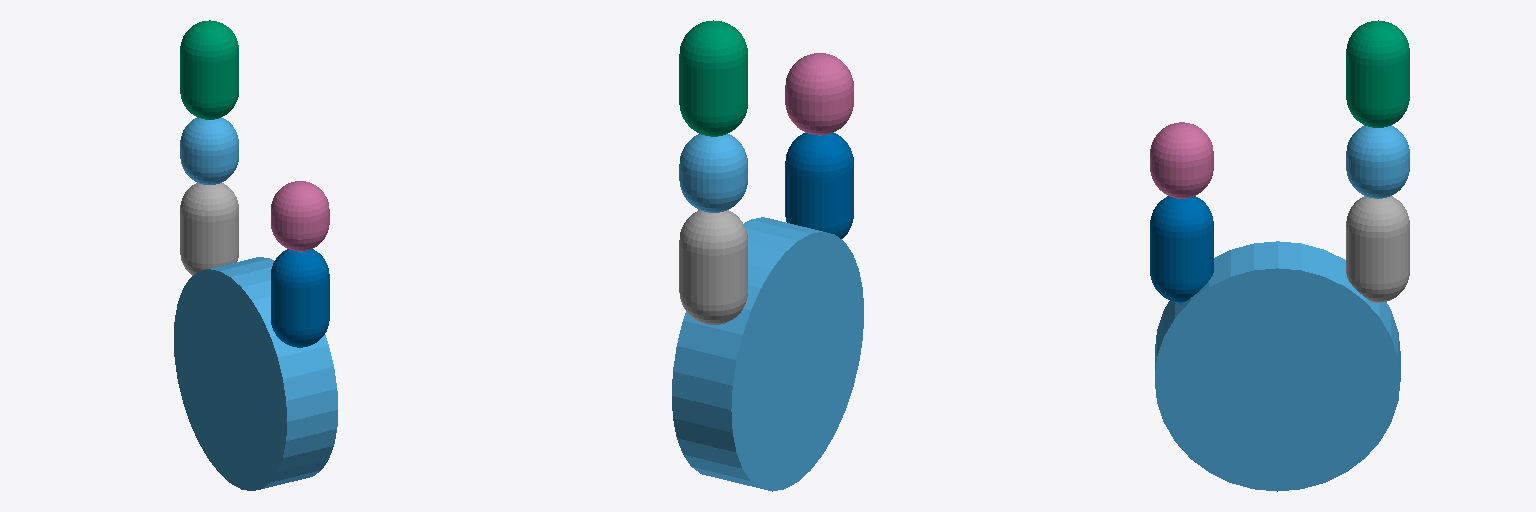
URDF robot description (DexterousHand):
<?xml version="1.0"?>
<robot name="DexterousHand">


    <link name="world"/>
    <joint name="world_to_palm" type="fixed">
        <parent link="world"/>
        <child link="palm"/>
        <origin xyz="0 0 0" rpy="0 0 0"/>
    </joint>
    <link name="palm">
        <inertial>
            <origin xyz="0 0 0.057" rpy="0 0 0"/>
            <mass value="0.30212892864"/>
            <inertia ixx="0.00049080844457568" ixy="0.0" ixz="0.0" iyy="0.00026746366246427523" iyz="0.0" izz="0.00026746366246427523"/>
        </inertial>
        <visual>
            <origin xyz="0 0 0.057" rpy="1.5708 0 1.5708"/>
            <geometry>
                <cylinder radius="0.057" length="0.0296"/>
            </geometry>
            <material name="default"/>
        </visual>
        <collision>
            <origin xyz="0 0 0.057" rpy="1.5708 0 1.5708"/>
            <geometry>
                <cylinder radius="0.057" length="0.0296"/>
            </geometry>
        </collision>
    </link>

    
    <joint name="thumb_joint1" type="revolute">
        <parent link="palm"/>
        <child link="thumb_base"/>
        <origin xyz="0.0 0.0 0.0" rpy="0.0 0.0 0.0"/>
        <axis xyz="1 0 0"/>
        <limit lower="0.0" upper="0.0" effort="1.0" velocity="1.0"/>
    </joint>

    <link name="thumb_base"></link>

    <joint name="thumb_joint2" type="revolute">
        <parent link="thumb_base"/>
        <child link="thumb_proximal"/>
        <origin xyz="0.0 0.0 0.0" rpy="0.0 0.0 0.0"/>
        <axis xyz="0 1 0"/>
        <limit lower="0.0" upper="0.0" effort="1.0" velocity="1.0"/>
    </joint>

    <link name="thumb_proximal">
    </link>

    <joint name="thumb_joint3" type="revolute">
        <parent link="thumb_proximal"/>
        <child link="thumb_knuckle"/>
        <origin xyz="0.0 0.0 0.0" rpy="0.0 0.0 0.0"/>
        <axis xyz="1 0 0"/>
        <limit lower="0.0" upper="0.0" effort="1.0" velocity="1.0"/>
    </joint>

    <link name="thumb_knuckle"></link>

    <joint name="thumb_joint4" type="revolute">
        <parent link="thumb_knuckle"/>
        <child link="thumb_middle"/>
        <origin xyz="0 0 0" rpy="0 0 0"/> 
        <axis xyz="0 1 0"/>
        <limit lower="0.0" upper="0.0" effort="1.0" velocity="1.0"/>
    </joint>

    <link name="thumb_middle">
    </link>

    <joint name="thumb_joint5" type="revolute">
        <parent link="thumb_middle"/>
        <child link="thumb_distal"/>
        <origin xyz="0 0 0" rpy="0 0 0"/> 
        <axis xyz="0 1 0"/>
        <limit lower="0.0" upper="0.0" effort="1.0" velocity="1.0"/>
    </joint>

    <link name="thumb_distal">
    </link>

    
    <joint name="index_joint1" type="revolute">
        <parent link="palm"/>
        <child link="index_proximal"/>
        <origin xyz="0.0 0.0465 0.091" rpy="0.0 0.0 0.0"/>
        <axis xyz="0 1 0"/>
        <limit lower="-0.314" upper="2.23" effort="1.0" velocity="1.0"/>
    </joint>

    <link name="index_proximal">
        <inertial>
            <origin xyz="0 0 0.02655" rpy="0 0 0"/>
            <mass value="0.036540024998400006"/>
            <inertia ixx="1.058665009272394e-05" ixy="0.0" ixz="0.0" 
            iyy="1.058665009272394e-05" iyz="0.0" izz="4.001863537824769e-06"/>
        </inertial>
        <visual>
            <origin xyz="0 0 0.02655" rpy="0 0 0"/>
            <geometry>
                <cylinder radius="0.0148" length="0.0235"/>
            </geometry>
            <material name="default"/>
        </visual>
        <visual>
            <origin xyz="0 0 0.0148" rpy="0 0 0"/>
            <geometry>
                <sphere radius="0.0148"/>
            </geometry>
            <material name="default"/>
        </visual>
        <visual>
            <origin xyz="0 0 0.0383" rpy="0 0 0"/>
            <geometry>
                <sphere radius="0.0148"/>
            </geometry>
            <material name="default"/>
        </visual>
        <collision>
            <origin xyz="0 0 0.02655" rpy="0 0 0"/>
            <geometry>
                <cylinder radius="0.0148" length="0.0235"/>
            </geometry>
        </collision>
        <collision>
            <origin xyz="0 0 0.0148" rpy="0 0 0"/>
            <geometry>
                <sphere radius="0.0148"/>
            </geometry>
        </collision>
        <collision>
            <origin xyz="0 0 0.0383" rpy="0 0 0"/>
            <geometry>
                <sphere radius="0.0148"/>
            </geometry>
        </collision>
    </link>

    <joint name="index_joint2" type="revolute">
        <parent link="index_proximal"/>
        <child link="index_dummy"/>
        <origin xyz="0.0 0.0 0.038" rpy="0.0 0.0 0.0"/>
        <axis xyz="1 0 0"/>
        <limit lower="-1.047" upper="1.047" effort="1.0" velocity="1.0"/>
    </joint>

    <link name="index_dummy"></link>

    <joint name="index_joint3" type="revolute">
        <parent link="index_dummy"/>
        <child link="index_middle"/>
        <origin xyz="0 0 0.015100000000000002" rpy="0 0 0"/>
        <axis xyz="0 1 0"/>
        <limit lower="-0.506" upper="1.885" effort="1.0" velocity="1.0"/>
    </joint>

    <link name="index_middle">
        <inertial>
            <origin xyz="0 0 0.01805" rpy="0 0 0"/>
            <mass value="0.0248417119104"/>
            <inertia ixx="4.058162759109537e-06" ixy="0.0" ixz="0.0" 
            iyy="4.058162759109537e-06" iyz="0.0" izz="2.7206642884270085e-06"/>
        </inertial>
        <visual>
            <origin xyz="0 0 0.01805" rpy="0 0 0"/>
            <geometry>
                <cylinder radius="0.0148" length="0.006499999999999999"/>
            </geometry>
            <material name="default"/>
        </visual>
        <visual>
            <origin xyz="0 0 0.0148" rpy="0 0 0"/>
            <geometry>
                <sphere radius="0.0148"/>
            </geometry>
            <material name="default"/>
        </visual>
        <visual>
            <origin xyz="0 0 0.0213" rpy="0 0 0"/>
            <geometry>
                <sphere radius="0.0148"/>
            </geometry>
            <material name="default"/>
        </visual>
        <collision>
            <origin xyz="0 0 0.01805" rpy="0 0 0"/>
            <geometry>
                <cylinder radius="0.0148" length="0.006499999999999999"/>
            </geometry>
        </collision>
        <collision>
            <origin xyz="0 0 0.0148" rpy="0 0 0"/>
            <geometry>
                <sphere radius="0.0148"/>
            </geometry>
        </collision>
        <collision>
            <origin xyz="0 0 0.0213" rpy="0 0 0"/>
            <geometry>
                <sphere radius="0.0148"/>
            </geometry>
        </collision>
    </link>

    <joint name="index_joint4" type="revolute">
        <parent link="index_middle"/>
        <child link="index_distal"/>
        <origin xyz="0 0 0.0361" rpy="0 0 0"/> 
        <axis xyz="0 1 0"/>
        <limit lower="-0.366" upper="2.042" effort="1.0" velocity="1.0"/>
    </joint>

    <link name="index_distal">
        <inertial>
            <origin xyz="0 0 0.026" rpy="0 0 0"/>
            <mass value="0.035783075328"/>
            <inertia ixx="1.002260084553728e-05" ixy="0.0" ixz="0.0" 
            iyy="1.002260084553728e-05" iyz="0.0" izz="3.91896240992256e-06"/>
        </inertial>
        <visual>
            <origin xyz="0 0 0.026" rpy="0 0 0"/>
            <geometry>
                <cylinder radius="0.0148" length="0.022399999999999996"/>
            </geometry>
            <material name="default"/>
        </visual>
        <visual>
            <origin xyz="0 0 0.0148" rpy="0 0 0"/>
            <geometry>
                <sphere radius="0.0148"/>
            </geometry>
            <material name="default"/>
        </visual>
        <visual>
            <origin xyz="0 0 0.0372" rpy="0 0 0"/>
            <geometry>
                <sphere radius="0.0148"/>
            </geometry>
            <material name="default"/>
        </visual>
        <collision>
            <origin xyz="0 0 0.026" rpy="0 0 0"/>
            <geometry>
                <cylinder radius="0.0148" length="0.022399999999999996"/>
            </geometry>
        </collision>
        <collision>
            <origin xyz="0 0 0.0148" rpy="0 0 0"/>
            <geometry>
                <sphere radius="0.0148"/>
            </geometry>
        </collision>
        <collision>
            <origin xyz="0 0 0.0372" rpy="0 0 0"/>
            <geometry>
                <sphere radius="0.0148"/>
            </geometry>
        </collision>
    </link>

    
    <joint name="middle_joint1" type="revolute">
        <parent link="palm"/>
        <child link="middle_proximal"/>
        <origin xyz="0.0 0.0 0.0" rpy="0.0 0.0 0.0"/>
        <axis xyz="1 0 0"/>
        <limit lower="0.0" upper="0.0" effort="1.0" velocity="1.0"/>
    </joint>

    <link name="middle_proximal">
    </link>

    <joint name="middle_joint2" type="revolute">
        <parent link="middle_proximal"/>
        <child link="middle_dummy"/>
        <origin xyz="0.0 0.0 0.0" rpy="0.0 0.0 0.0"/>
        <axis xyz="0 1 0"/>
        <limit lower="0.0" upper="0.0" effort="1.0" velocity="1.0"/>
    </joint>

    <link name="middle_dummy"></link>

    <joint name="middle_joint3" type="revolute">
        <parent link="middle_dummy"/>
        <child link="middle_middle"/>
        <origin xyz="0 0 0" rpy="0 0 0"/>
        <axis xyz="0 1 0"/>
        <limit lower="0.0" upper="0.0" effort="1.0" velocity="1.0"/>
    </joint>

    <link name="middle_middle">
    </link>

    <joint name="middle_joint4" type="revolute">
        <parent link="middle_middle"/>
        <child link="middle_distal"/>
        <origin xyz="0 0 0" rpy="0 0 0"/> 
        <axis xyz="0 1 0"/>
        <limit lower="0.0" upper="0.0" effort="1.0" velocity="1.0"/>
    </joint>

    <link name="middle_distal">
    </link>

    
    <joint name="ring_joint1" type="revolute">
        <parent link="palm"/>
        <child link="ring_proximal"/>
        <origin xyz="0.0 0.0 0.0" rpy="0.0 0.0 0.0"/>
        <axis xyz="1 0 0"/>
        <limit lower="0.0" upper="0.0" effort="1.0" velocity="1.0"/>
    </joint>

    <link name="ring_proximal">
    </link>

    <joint name="ring_joint2" type="revolute">
        <parent link="ring_proximal"/>
        <child link="ring_dummy"/>
        <origin xyz="0.0 0.0 0.0" rpy="0.0 0.0 0.0"/>
        <axis xyz="0 1 0"/>
        <limit lower="0.0" upper="0.0" effort="1.0" velocity="1.0"/>
    </joint>

    <link name="ring_dummy"></link>

    <joint name="ring_joint3" type="revolute">
        <parent link="ring_dummy"/>
        <child link="ring_middle"/>
        <origin xyz="0 0 0" rpy="0 0 0"/>
        <axis xyz="0 1 0"/>
        <limit lower="0.0" upper="0.0" effort="1.0" velocity="1.0"/>
    </joint>

    <link name="ring_middle">
    </link>

    <joint name="ring_joint4" type="revolute">
        <parent link="ring_middle"/>
        <child link="ring_distal"/>
        <origin xyz="0 0 0" rpy="0 0 0"/> 
        <axis xyz="0 1 0"/>
        <limit lower="0.0" upper="0.0" effort="1.0" velocity="1.0"/>
    </joint>

    <link name="ring_distal">
    </link>

    
    <joint name="little_joint0" type="revolute">
        <parent link="palm"/>
        <child link="little_base"/>
        <origin xyz="0.0 0.0 0.0" rpy="0.0 0.0 0.0"/>
        <axis xyz="0 1 0"/>
        <limit lower="0.0" upper="0.0" effort="1.0" velocity="1.0"/>
    </joint>

    <link name="little_base"></link>

    <joint name="little_joint1" type="revolute">
        <parent link="little_base"/>
        <child link="little_proximal"/>
        <origin xyz="0.0 -0.0443 0.091" rpy="-0.0 -0.0 -0.0"/>
        <axis xyz="0 1 0"/>
        <limit lower="-0.314" upper="2.23" effort="1.0" velocity="1.0"/>
    </joint>

    <link name="little_proximal">
        <inertial>
            <origin xyz="0 0 0.02655" rpy="0 0 0"/>
            <mass value="0.036540024998400006"/>
            <inertia ixx="1.058665009272394e-05" ixy="0.0" ixz="0.0" 
            iyy="1.058665009272394e-05" iyz="0.0" izz="4.001863537824769e-06"/>
        </inertial>
        <visual>
            <origin xyz="0 0 0.02655" rpy="0 0 0"/>
            <geometry>
                <cylinder radius="0.0148" length="0.0235"/>
            </geometry>
            <material name="default"/>
        </visual>
        <visual>
            <origin xyz="0 0 0.0148" rpy="0 0 0"/>
            <geometry>
                <sphere radius="0.0148"/>
            </geometry>
            <material name="default"/>
        </visual>
        <visual>
            <origin xyz="0 0 0.0383" rpy="0 0 0"/>
            <geometry>
                <sphere radius="0.0148"/>
            </geometry>
            <material name="default"/>
        </visual>
        <collision>
            <origin xyz="0 0 0.02655" rpy="0 0 0"/>
            <geometry>
                <cylinder radius="0.0148" length="0.0235"/>
            </geometry>
        </collision>
        <collision>
            <origin xyz="0 0 0.0148" rpy="0 0 0"/>
            <geometry>
                <sphere radius="0.0148"/>
            </geometry>
        </collision>
        <collision>
            <origin xyz="0 0 0.0383" rpy="0 0 0"/>
            <geometry>
                <sphere radius="0.0148"/>
            </geometry>
        </collision>
    </link>

    <joint name="little_joint2" type="revolute">
        <parent link="little_proximal"/>
        <child link="little_dummy"/>
        <origin xyz="0.0 0.0 0.038" rpy="0.0 0.0 0.0"/>
        <axis xyz="1 0 0"/>
        <limit lower="-1.047" upper="1.047" effort="1.0" velocity="1.0"/>
    </joint>

    <link name="little_dummy"></link>

    <joint name="little_joint3" type="revolute">
        <parent link="little_dummy"/>
        <child link="little_middle"/>
        <origin xyz="0 0 0.015100000000000002" rpy="0 0 0"/>
        <axis xyz="0 1 0"/>
        <limit lower="-0.506" upper="1.885" effort="1.0" velocity="1.0"/>
    </joint>

    <link name="little_middle">
        <inertial>
            <origin xyz="0 0 0.01805" rpy="0 0 0"/>
            <mass value="0.0248417119104"/>
            <inertia ixx="4.058162759109537e-06" ixy="0.0" ixz="0.0" 
            iyy="4.058162759109537e-06" iyz="0.0" izz="2.7206642884270085e-06"/>
        </inertial>
        <visual>
            <origin xyz="0 0 0.01805" rpy="0 0 0"/>
            <geometry>
                <cylinder radius="0.0148" length="0.006499999999999999"/>
            </geometry>
            <material name="default"/>
        </visual>
        <visual>
            <origin xyz="0 0 0.0148" rpy="0 0 0"/>
            <geometry>
                <sphere radius="0.0148"/>
            </geometry>
            <material name="default"/>
        </visual>
        <visual>
            <origin xyz="0 0 0.0213" rpy="0 0 0"/>
            <geometry>
                <sphere radius="0.0148"/>
            </geometry>
            <material name="default"/>
        </visual>
        <collision>
            <origin xyz="0 0 0.01805" rpy="0 0 0"/>
            <geometry>
                <cylinder radius="0.0148" length="0.006499999999999999"/>
            </geometry>
        </collision>
        <collision>
            <origin xyz="0 0 0.0148" rpy="0 0 0"/>
            <geometry>
                <sphere radius="0.0148"/>
            </geometry>
        </collision>
        <collision>
            <origin xyz="0 0 0.0213" rpy="0 0 0"/>
            <geometry>
                <sphere radius="0.0148"/>
            </geometry>
        </collision>
    </link>

    <joint name="little_joint4" type="revolute">
        <parent link="little_middle"/>
        <child link="little_distal"/>
        <origin xyz="0 0 0.0361" rpy="0 0 0"/>
        <axis xyz="0 1 0"/>
        <limit lower="0.0" upper="0.0" effort="1.0" velocity="1.0"/>
    </joint>

    <link name="little_distal">
    </link>

</robot>

--- Render facts (derived) ---
Views: 3 orthographic renders of the robot side by side, from view 1: azimuth 30°, elevation 25°; view 2: azimuth 150°, elevation 25°; view 3: azimuth 270°, elevation 25°.
Robot: DexterousHand — 24 links, 23 joints (22 revolute, 1 fixed); root link world; default pose: all joints at 0.
Visible links, largest first — view 1: palm, little_proximal, index_distal, index_proximal, little_middle, index_middle; view 2: palm, index_proximal, index_distal, little_proximal, little_middle, index_middle; view 3: palm, index_distal, index_proximal, little_proximal, little_middle, index_middle.
Boxes of the visible links, x1,y1,x2,y2 form: palm: (174, 257, 337, 490); little_proximal: (271, 249, 329, 347); index_distal: (180, 20, 238, 119); index_proximal: (180, 183, 238, 275); little_middle: (271, 181, 329, 251); index_middle: (180, 117, 238, 184); palm: (672, 217, 863, 491); index_proximal: (679, 210, 747, 324); index_distal: (679, 20, 747, 136); little_proximal: (785, 133, 853, 238); little_middle: (785, 53, 853, 135); index_middle: (679, 134, 747, 212); palm: (1155, 241, 1400, 491); index_distal: (1346, 20, 1409, 127); index_proximal: (1346, 196, 1409, 302); little_proximal: (1150, 196, 1213, 302); little_middle: (1150, 122, 1213, 198); index_middle: (1346, 125, 1409, 198).
Bounding box of the posed robot: 0.0296 × 0.1204 × 0.2322 m (x, y, z).
Geometry: primitives only (box / cylinder / sphere), no mesh files.
